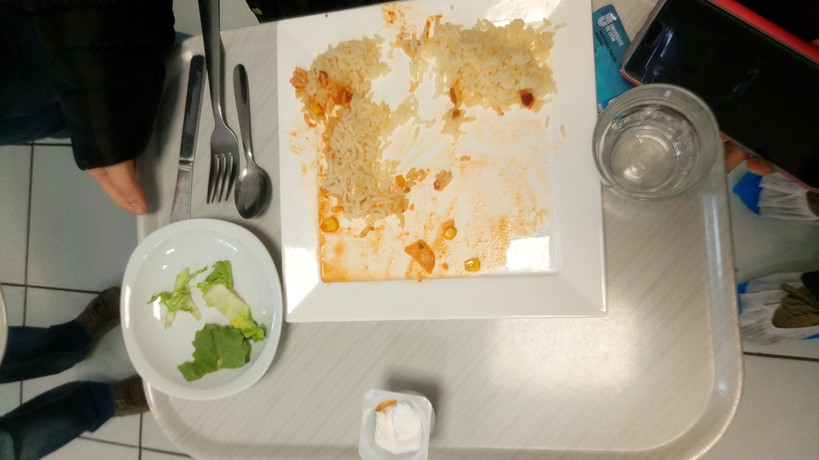cup: (588, 78, 730, 214)
cutlery: (165, 1, 275, 225)
orga: (297, 40, 419, 231), (154, 266, 260, 373), (427, 21, 549, 105)
trash: (365, 389, 444, 459)
